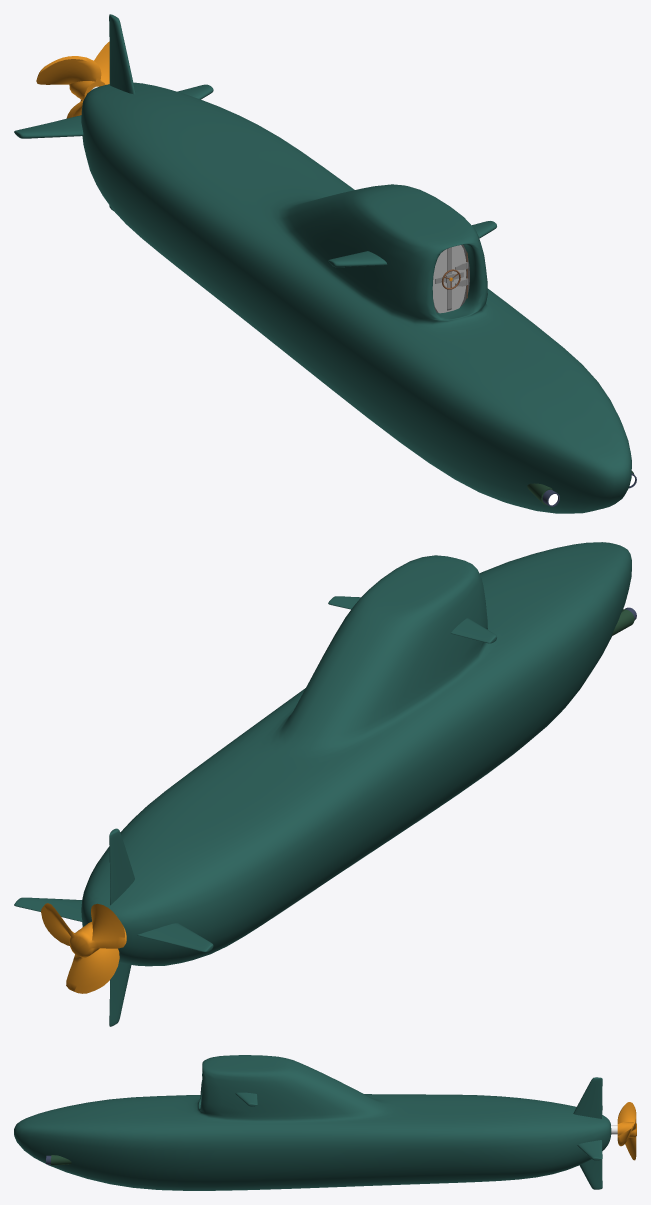
File: black_needle.fbx
3 renders of one model, top to bottom at view 1: azimuth 30°, elevation 25°; view 2: azimuth 150°, elevation 25°; view 3: azimuth 270°, elevation 25°, orthographic. The views are drawn at different scales.
Visible parts, largest first — view 1: sub_hull, sub_propellor, sub_bulkhead_airlock_outer, sub_fins_vertical, sub_fins_horizontal, sub_fins_ventral; view 2: sub_hull, sub_propellor, sub_fins_vertical, sub_fins_horizontal, sub_fins_ventral; view 3: sub_hull, sub_fins_vertical, sub_propellor, sub_fins_horizontal, sub_fins_ventral, sub_headlights.
Boxes of the visible parts, x1,y1,x2,y2 form: sub_hull: (81, 82, 631, 513); sub_propellor: (36, 41, 109, 118); sub_bulkhead_airlock_outer: (432, 245, 468, 313); sub_fins_vertical: (109, 14, 135, 210); sub_fins_horizontal: (14, 84, 213, 138); sub_fins_ventral: (328, 221, 496, 267); sub_hull: (81, 542, 631, 966); sub_propellor: (41, 903, 126, 993); sub_fins_vertical: (109, 828, 134, 1026); sub_fins_horizontal: (14, 897, 213, 952); sub_fins_ventral: (328, 596, 496, 643); sub_hull: (14, 1055, 611, 1190); sub_fins_vertical: (573, 1077, 602, 1189); sub_propellor: (611, 1102, 636, 1160); sub_fins_horizontal: (577, 1106, 602, 1160); sub_fins_ventral: (235, 1092, 257, 1106); sub_headlights: (46, 1155, 71, 1165).
Size of the model in its own units: 5.31 by 5.74 by 25.75.
